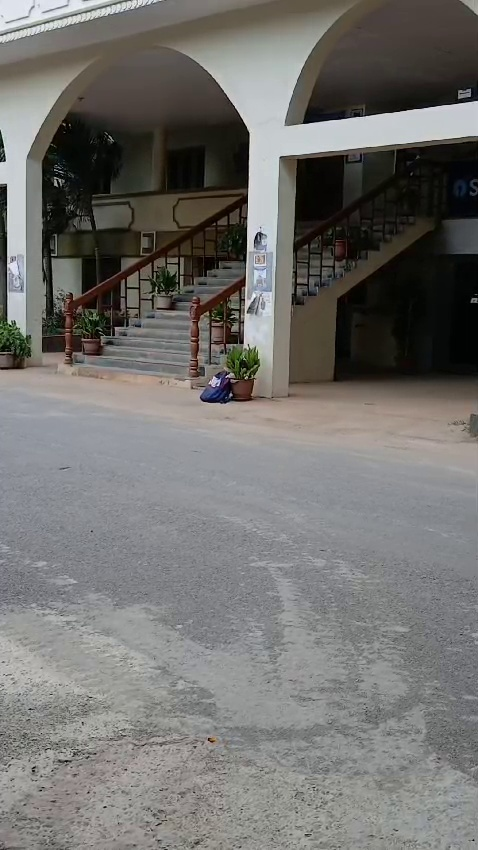bag: (189, 365, 239, 407)
